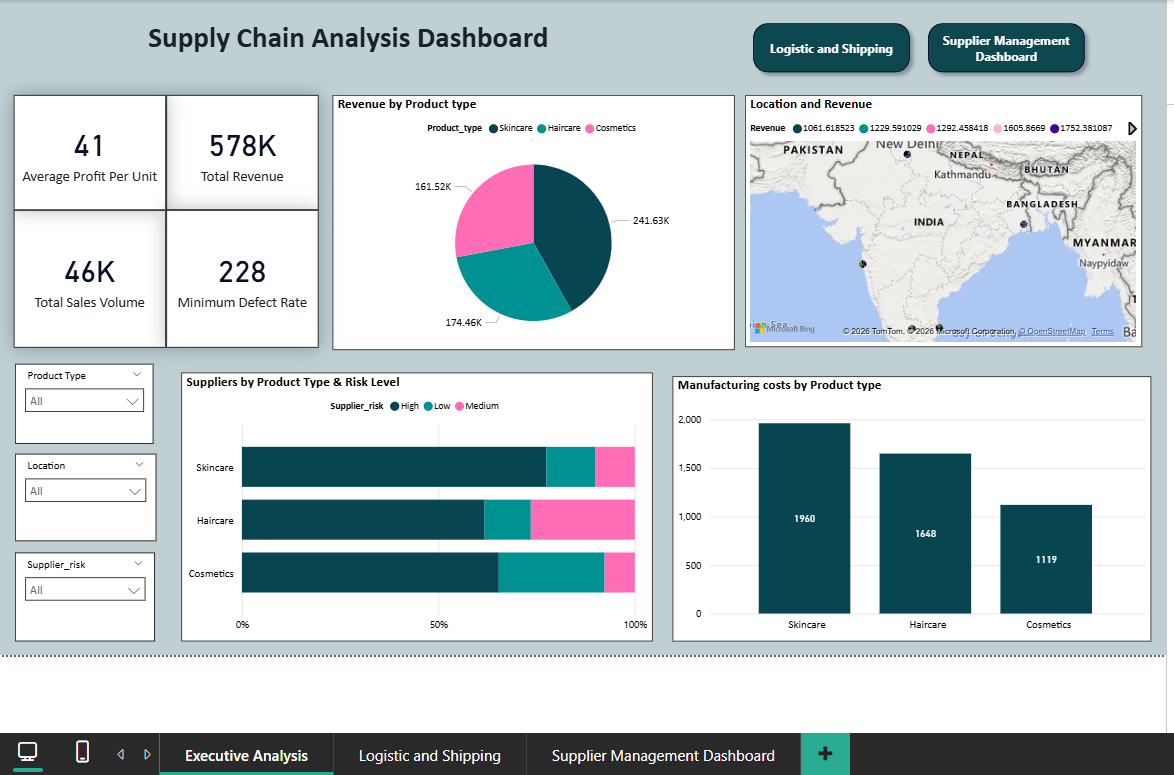

This screenshot's page, from the dashboard's own definition file:
{"tool":"powerbi","page":{"name":"Executive Analysis","canvas":[1280,720],"ordinal":0},"visuals":[{"type":"map","fields":{"Category":["Cleaned_supply_chain_data.Location"],"Series":["Cleaned_supply_chain_data.Revenue"]},"box":[817.8,104.3,436.4,277.2],"z":0},{"type":"pieChart","title":" Revenue by Product type","fields":{"Y":["Sum(Cleaned_supply_chain_data.Revenue)"],"Category":["Cleaned_supply_chain_data.Product_type"]},"box":[365,104.3,441.9,279.9],"z":1000},{"type":"hundredPercentStackedBarChart","title":"Suppliers by Product Type & Risk Level","fields":{"Series":["Cleaned_supply_chain_data.Supplier_risk"],"Category":["Cleaned_supply_chain_data.Product_type"],"Y":["CountNonNull(Cleaned_supply_chain_data.Supplier_name)"]},"box":[199,408.9,517.3,295],"z":2000},{"type":"columnChart","title":" Manufacturing costs by Product type","fields":{"Y":["Sum(Cleaned_supply_chain_data.Manufacturing_costs)"],"Category":["Cleaned_supply_chain_data.Product_type"]},"box":[738.3,413,525.6,290.9],"z":3000},{"type":"card","fields":{"Values":["Sum(Cleaned_supply_chain_data.Revenue)"]},"box":[182.5,104.3,167.4,126.2],"z":4000},{"type":"card","fields":{"Values":["Sum(Cleaned_supply_chain_data.Sales_qty)"]},"box":[15.1,230.5,167.4,150.9],"z":5000},{"type":"card","fields":{"Values":["Avg(Cleaned_supply_chain_data.Profit_per_unit)"]},"box":[15.1,104.3,167.4,126.2],"z":6000},{"type":"card","fields":{"Values":["Sum(Cleaned_supply_chain_data.Defect_rates)"]},"box":[182.5,230.5,167.4,150.9],"z":7000},{"type":"pageNavigator","box":[817.6,16.2,382.4,73],"z":8000},{"type":"slicer","fields":{"Values":["Cleaned_supply_chain_data.Product_type"]},"box":[16.5,399.3,152.3,87.8],"z":9000},{"type":"slicer","fields":{"Values":["Cleaned_supply_chain_data.Location"]},"box":[16.5,498.1,155.1,96.1],"z":10000},{"type":"slicer","fields":{"Values":["Cleaned_supply_chain_data.Supplier_risk"]},"box":[16.5,606.5,153.7,97.4],"z":11000},{"type":"textbox","box":[157.8,16.5,598.3,56.3],"z":12000}]}

Visuals, with their boxes in screenshot pixels (x1, y1, x2, y2):
map - Cleaned_supply_chain_data.Location x Cleaned_supply_chain_data.Revenue: bbox=[740, 94, 1134, 345]
" Revenue by Product type" pieChart: bbox=[330, 94, 730, 348]
"Suppliers by Product Type & Risk Level" hundredPercentStackedBarChart: bbox=[180, 370, 648, 637]
" Manufacturing costs by Product type" columnChart: bbox=[668, 374, 1143, 637]
card - Sum(Cleaned_supply_chain_data.Revenue): bbox=[165, 94, 316, 208]
card - Sum(Cleaned_supply_chain_data.Sales_qty): bbox=[14, 208, 165, 345]
card - Avg(Cleaned_supply_chain_data.Profit_per_unit): bbox=[14, 94, 165, 208]
card - Sum(Cleaned_supply_chain_data.Defect_rates): bbox=[165, 208, 316, 345]
pageNavigator: bbox=[740, 15, 1085, 81]
slicer - Cleaned_supply_chain_data.Product_type: bbox=[15, 361, 153, 441]
slicer - Cleaned_supply_chain_data.Location: bbox=[15, 451, 155, 537]
slicer - Cleaned_supply_chain_data.Supplier_risk: bbox=[15, 549, 154, 637]
textbox: bbox=[143, 15, 684, 66]
